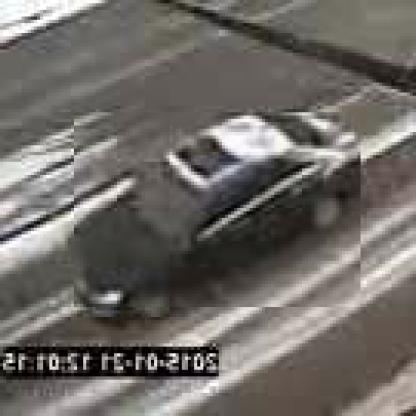car: (72, 114, 361, 312)
